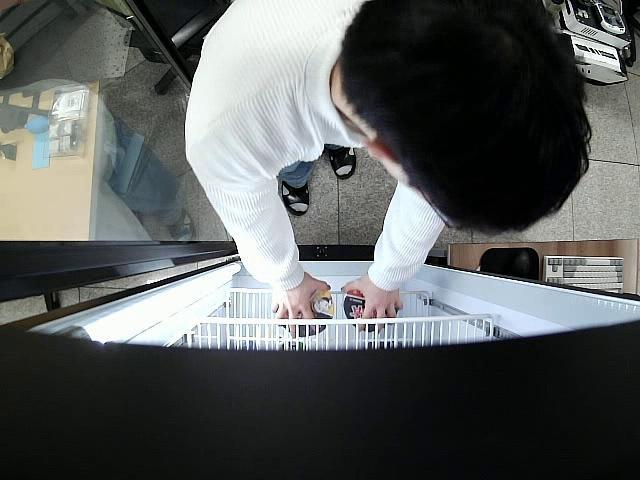07_buldak_L: (276, 289, 334, 335), (342, 287, 383, 331)
